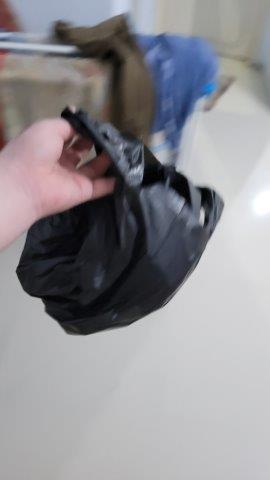plastik: (13, 105, 225, 340)
